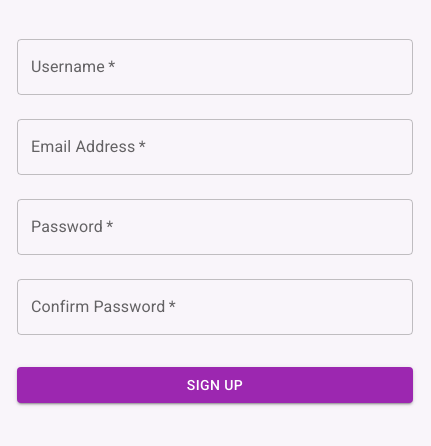
<RegisterForm /> › shows error messages for invalid email and password(s)
Enter invalid email and password
Step 1. Type "invalid-email" into the field labelled "Email Address" → (215, 147), box [17,119,413,175]
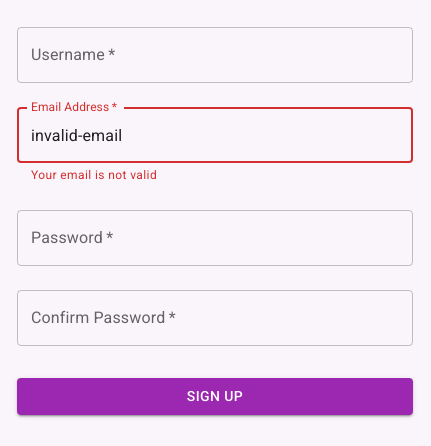
Step 2. Type "12345test" into the text "Password" → (72, 238), box [31,226,113,249]
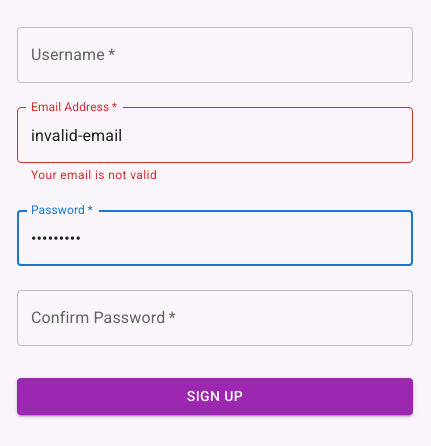
Step 3. Type "12345testFalse" into the text "Confirm Password" → (103, 318), box [31,306,176,329]
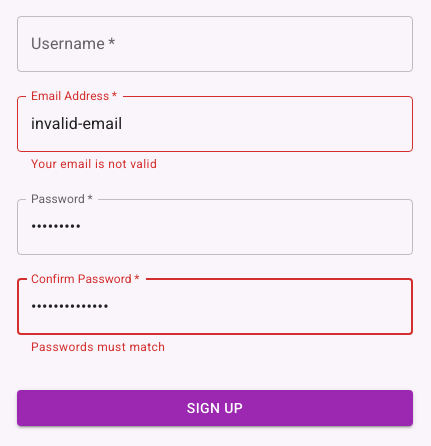
Expected: the text "Your email is not valid" is shown, [31,157,157,171]
Expected: the text "Passwords must match" is shown, [31,340,165,354]
